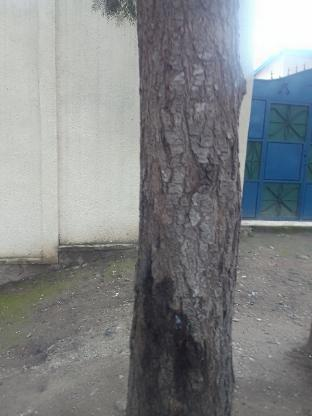tree: (124, 1, 251, 416)
